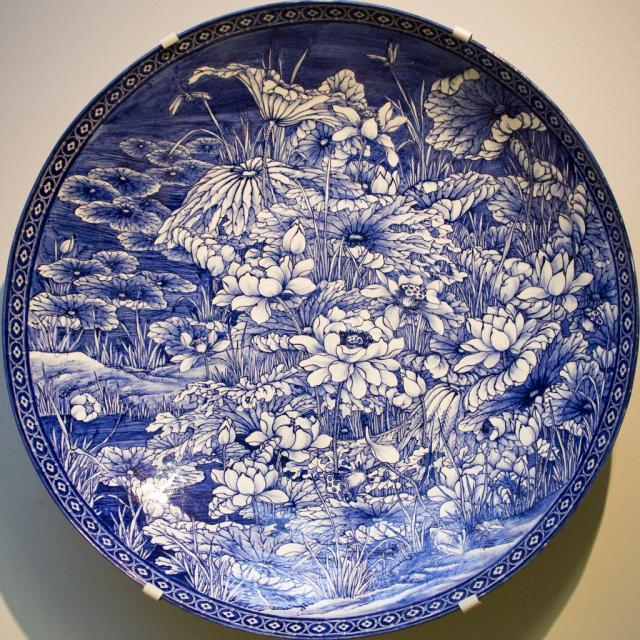ceramic plate: (0, 0, 620, 618)
